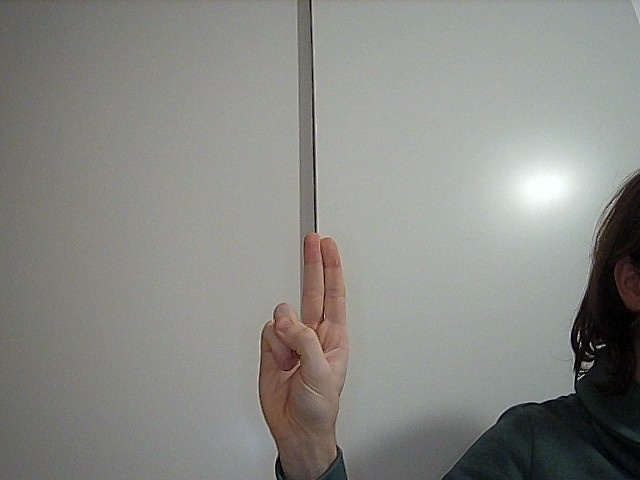u: (247, 226, 362, 428)
